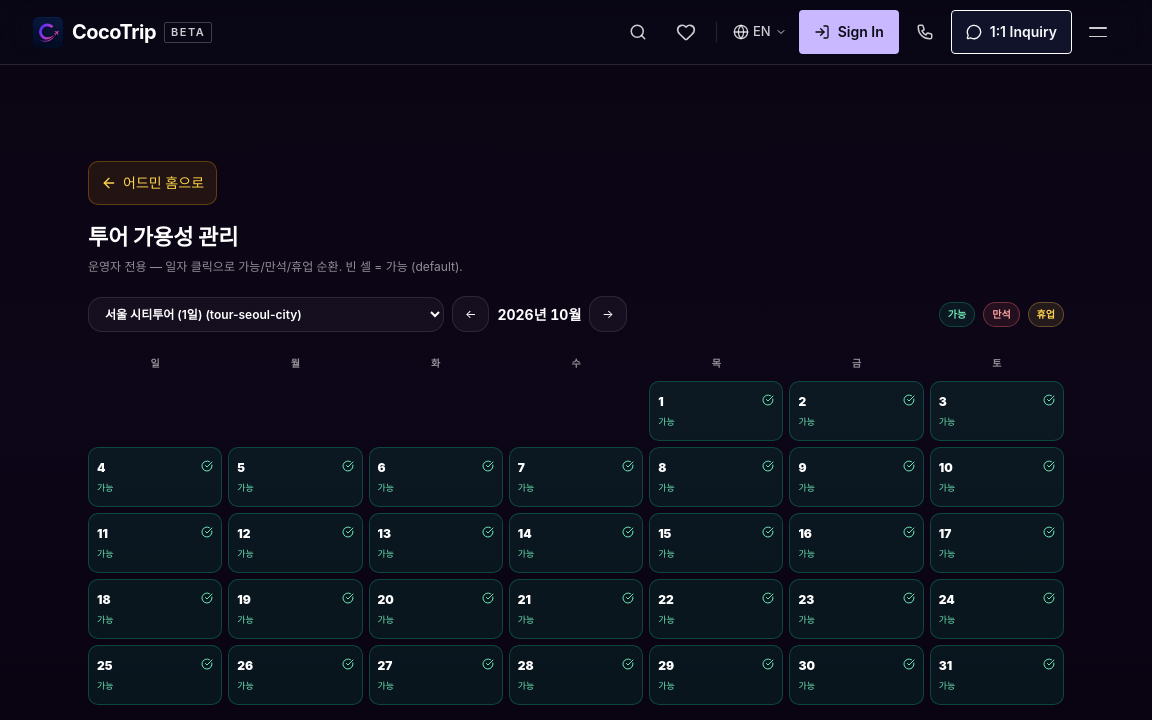
Test: admin read-only request lifecycle › ignores an old month response after navigating to the next month
Click the button "→". click: (608, 314)
box: [589,296,627,332]
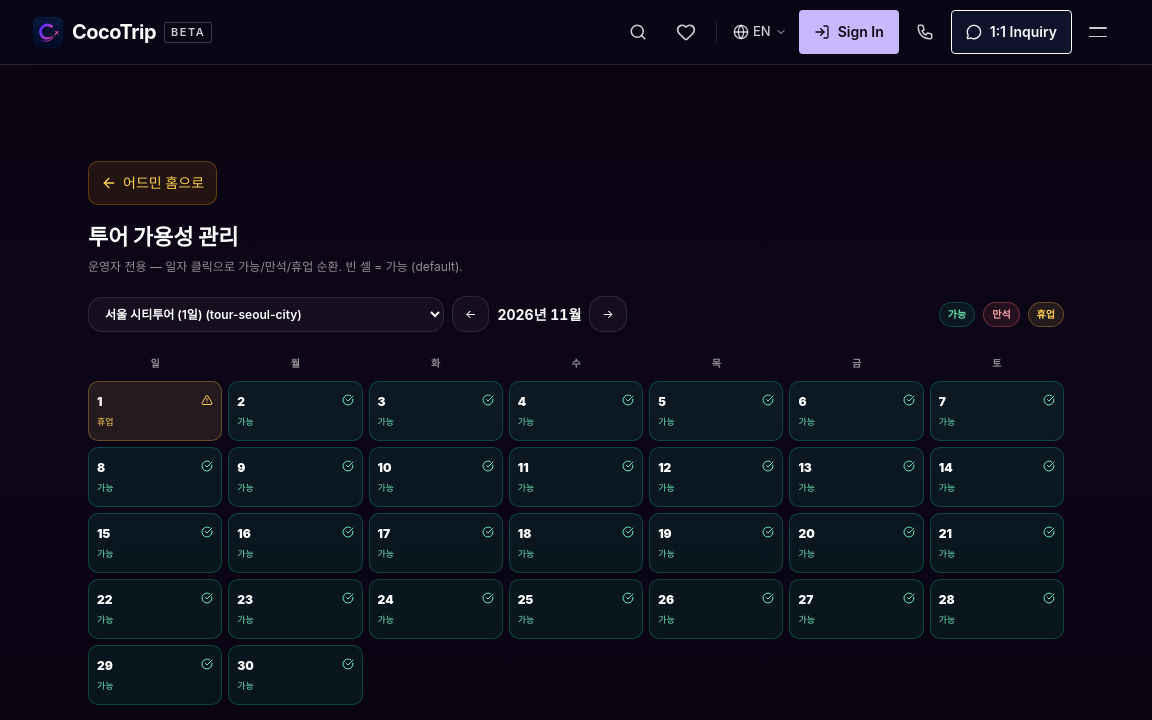
Expected: the button "1 휴업" is shown, [88,381,222,441]
